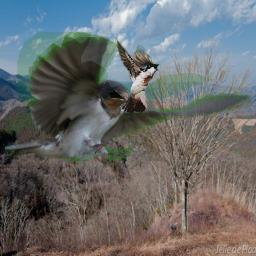Swallow: (5, 32, 251, 162), (114, 37, 160, 113)
